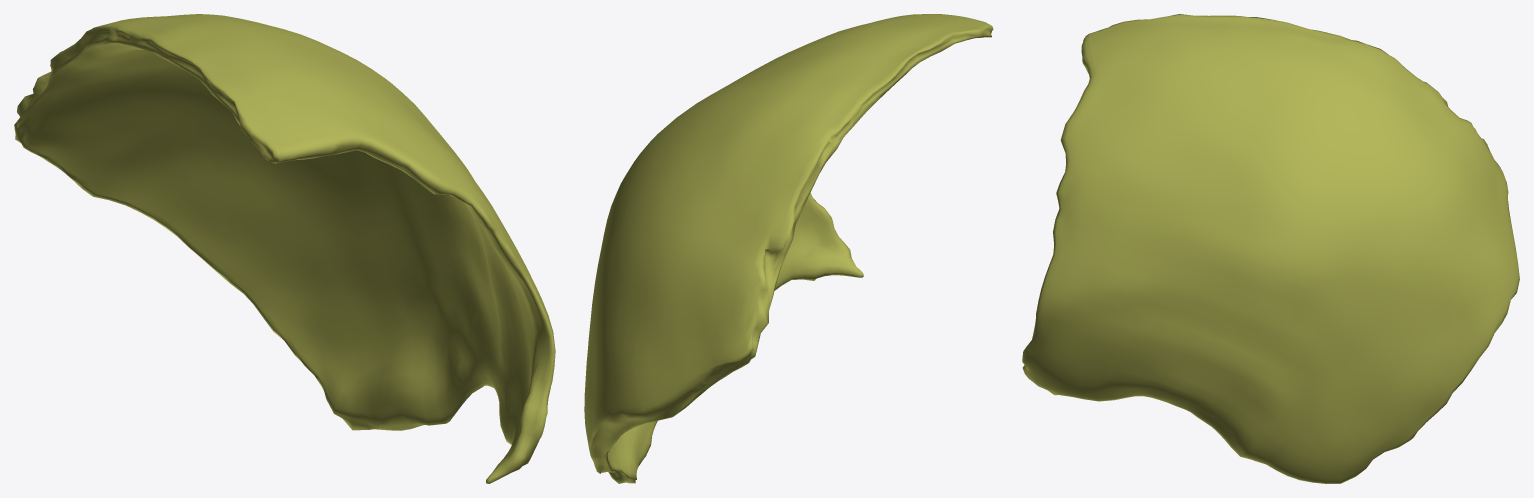
File: Parietal_Izquierdo.glb
3 renders of one model, left to right at view 1: azimuth 30°, elevation 25°; view 2: azimuth 150°, elevation 25°; view 3: azimuth 270°, elevation 25°, orthographic. The views are drawn at different scales.
Visible parts, largest first — view 1: Parietal Izquierdo; view 2: Parietal Izquierdo; view 3: Parietal Izquierdo.
Boxes of the visible parts, bbox=[...] form: Parietal Izquierdo: bbox=[14, 14, 555, 483]; Parietal Izquierdo: bbox=[584, 14, 993, 483]; Parietal Izquierdo: bbox=[1022, 14, 1519, 483].
Bounding box in the file's own units: 0.0785 × 0.1155 × 0.1391.
